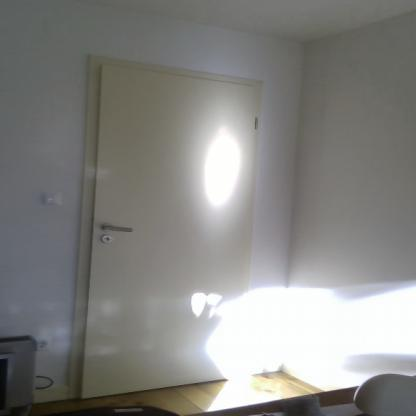door: (101, 63, 258, 377)
hinged: (249, 115, 261, 130)
lever: (100, 223, 134, 235)
